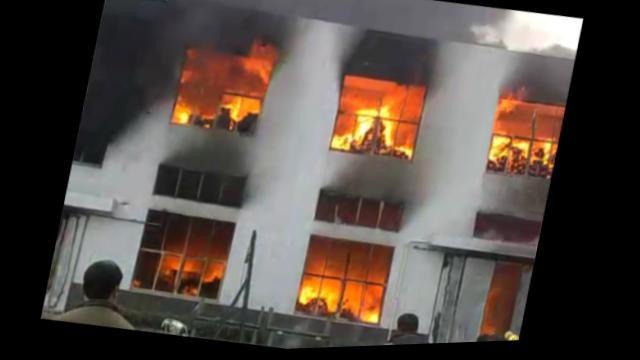fire: (246, 44, 277, 85), (220, 96, 263, 124), (363, 286, 388, 326), (343, 282, 367, 321), (320, 279, 345, 315), (490, 140, 514, 168), (303, 277, 324, 308), (355, 117, 377, 144), (333, 124, 355, 150), (380, 121, 399, 149), (207, 261, 229, 285), (511, 142, 534, 164), (398, 134, 418, 159), (173, 103, 195, 125), (499, 102, 520, 119), (355, 105, 379, 119), (381, 102, 398, 121), (167, 255, 183, 274), (186, 260, 205, 274), (542, 145, 554, 166)
